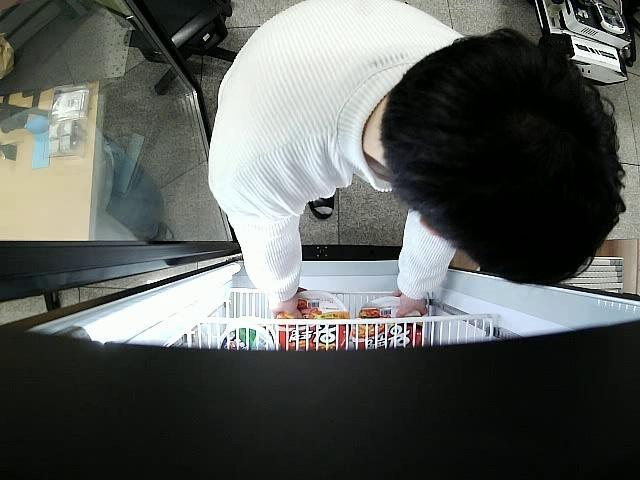10_wangTtukkeong: (278, 291, 350, 354), (354, 297, 426, 352)
